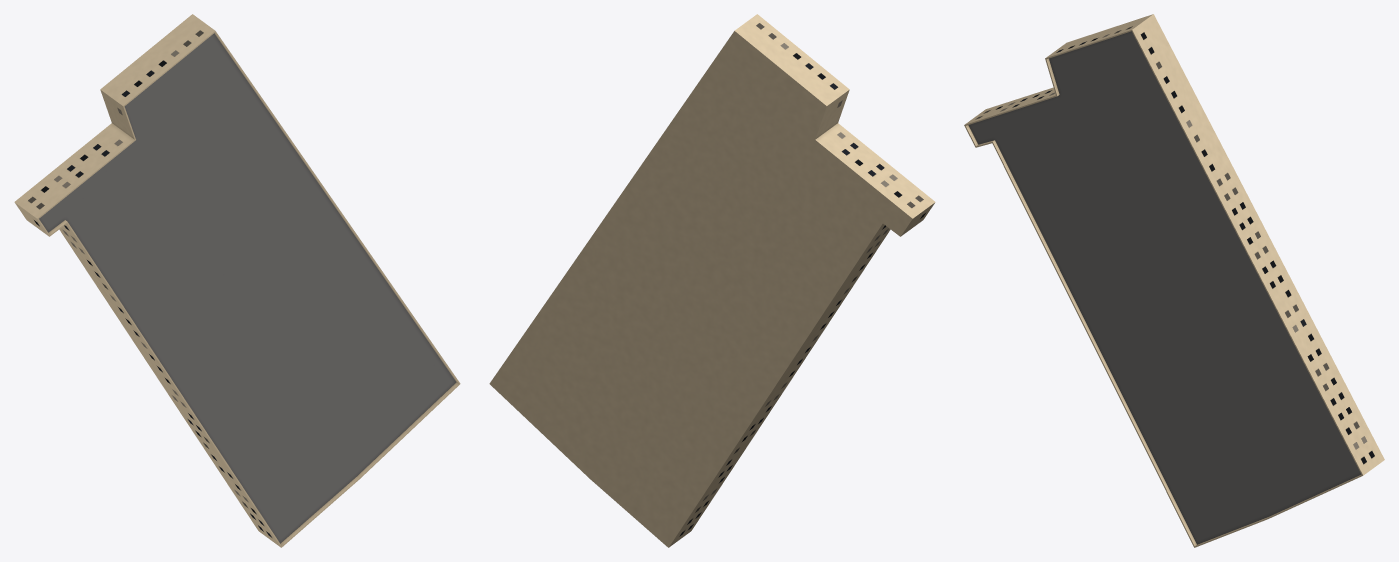
File: house_b0000.obj
The picture shows the model from 3 angles, left to right: view 1: azimuth 30°, elevation 25°; view 2: azimuth 150°, elevation 25°; view 3: azimuth 330°, elevation 25°; orthographic projection. The views are drawn at different scales.
Visible parts, largest first — view 1: house_b0000; view 2: house_b0000; view 3: house_b0000.
Boxes of the visible parts, left/top/right/bottom form: house_b0000: left=14, top=14, right=460, bottom=547; house_b0000: left=489, top=14, right=935, bottom=547; house_b0000: left=964, top=14, right=1384, bottom=547.
Size of the model in its own units: 87.51 by 105 by 8.2.
Materials: 1 (1 with a texture image).
